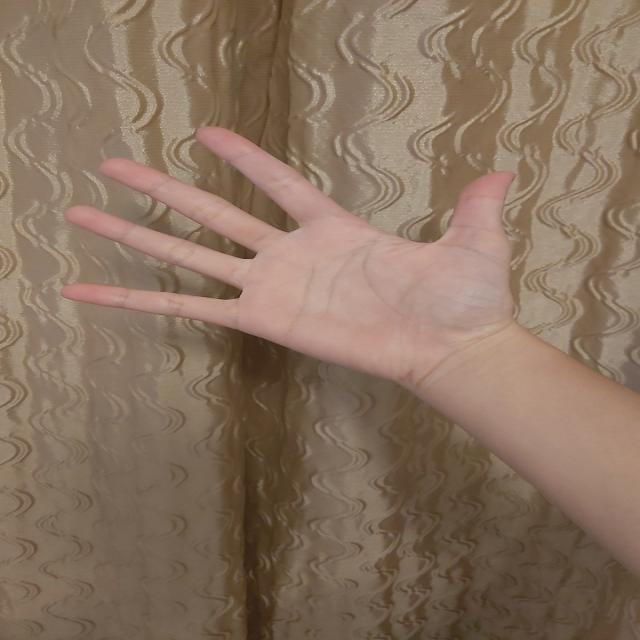no_glove: (42, 113, 540, 403)
